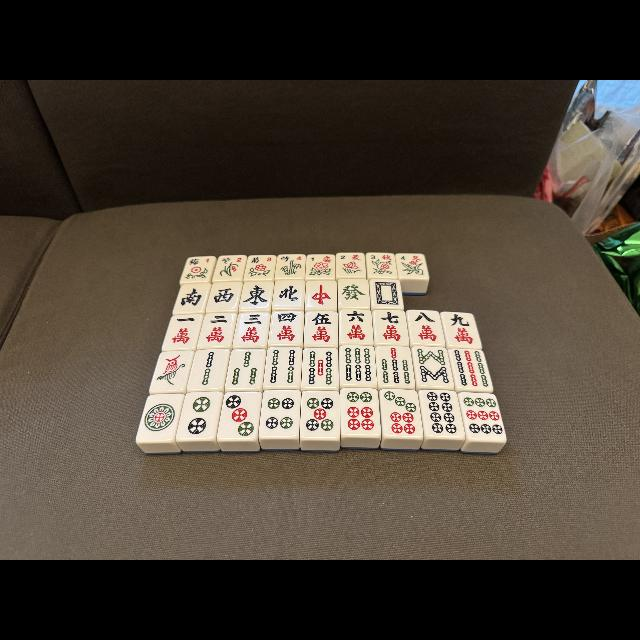b1: (154, 352, 190, 391)
b2: (193, 350, 225, 390)
b3: (228, 349, 264, 389)
b4: (266, 348, 300, 388)
b5: (303, 348, 337, 388)
b6: (340, 345, 374, 385)
b7: (376, 346, 412, 386)
b8: (414, 346, 450, 386)
b9: (452, 348, 491, 390)
c1: (167, 315, 199, 349)
c2: (202, 313, 232, 347)
c3: (236, 312, 268, 346)
c4: (272, 310, 302, 344)
c5: (305, 312, 337, 346)
c6: (340, 308, 372, 344)
c7: (373, 311, 407, 345)
c8: (408, 311, 442, 345)
c9: (445, 312, 477, 348)
d1: (141, 395, 179, 441)
d2: (182, 392, 220, 440)
d3: (222, 392, 260, 438)
d4: (260, 392, 300, 436)
d5: (302, 391, 338, 437)
d6: (341, 388, 379, 436)
d7: (382, 389, 421, 436)
d8: (422, 391, 460, 437)
d9: (462, 393, 503, 439)
dg: (338, 280, 369, 308)
dr: (306, 281, 336, 309)
dw: (371, 280, 401, 308)
f1: (186, 256, 212, 268)
f2: (218, 256, 244, 266)
f3: (248, 256, 274, 266)
f4: (278, 255, 304, 263)
s1: (307, 254, 335, 264)
s2: (337, 253, 365, 263)
s3: (367, 254, 395, 262)
s4: (398, 254, 427, 264)
we: (242, 281, 270, 309)
wn: (275, 282, 303, 308)
ws: (176, 284, 207, 312)
ww: (208, 282, 240, 310)
